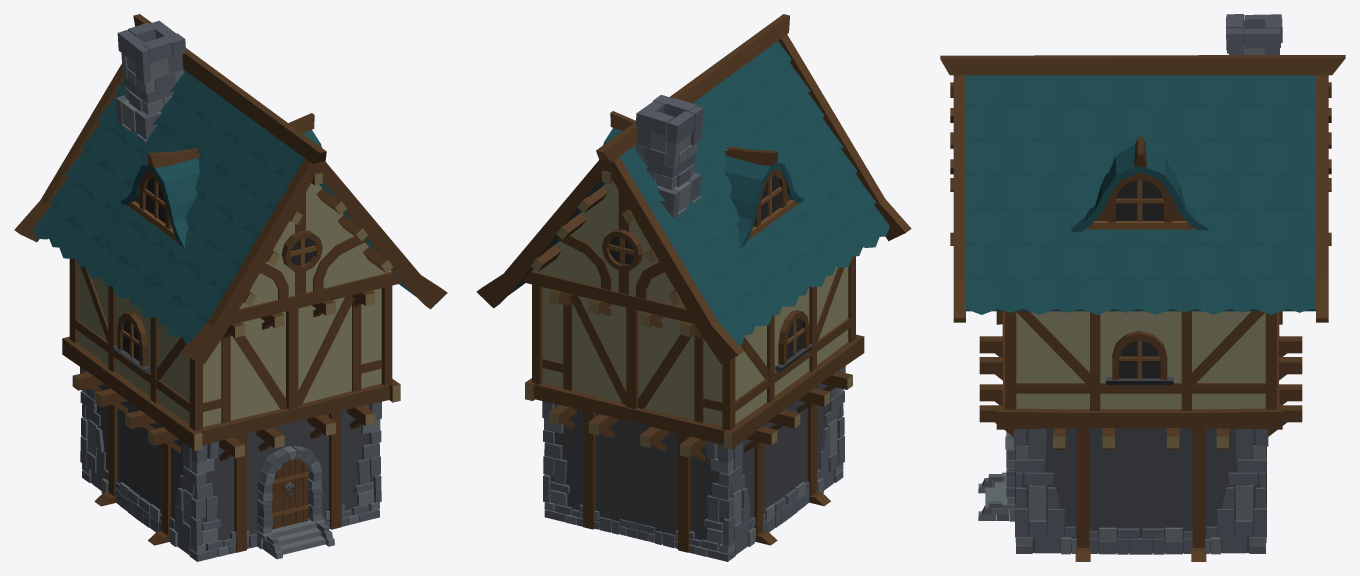
File: house.glb
3 renders of one model, left to right at view 1: azimuth 30°, elevation 25°; view 2: azimuth 150°, elevation 25°; view 3: azimuth 270°, elevation 25°, orthographic. The views are drawn at different scales.
Visible parts, largest first — view 1: House_1; view 2: House_1; view 3: House_1.
Part boxes in pixels (x1=…): House_1: x1=14, y1=14, x2=447, y2=561; House_1: x1=476, y1=14, x2=911, y2=561; House_1: x1=940, y1=14, x2=1345, y2=561.
Bounding box in the file's own units: 2.14 × 3.39 × 2.66.
